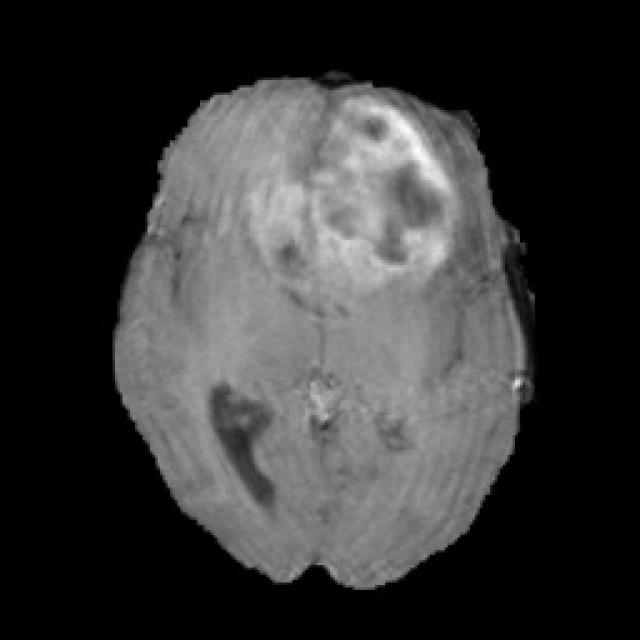negative: (316, 105, 456, 280)
